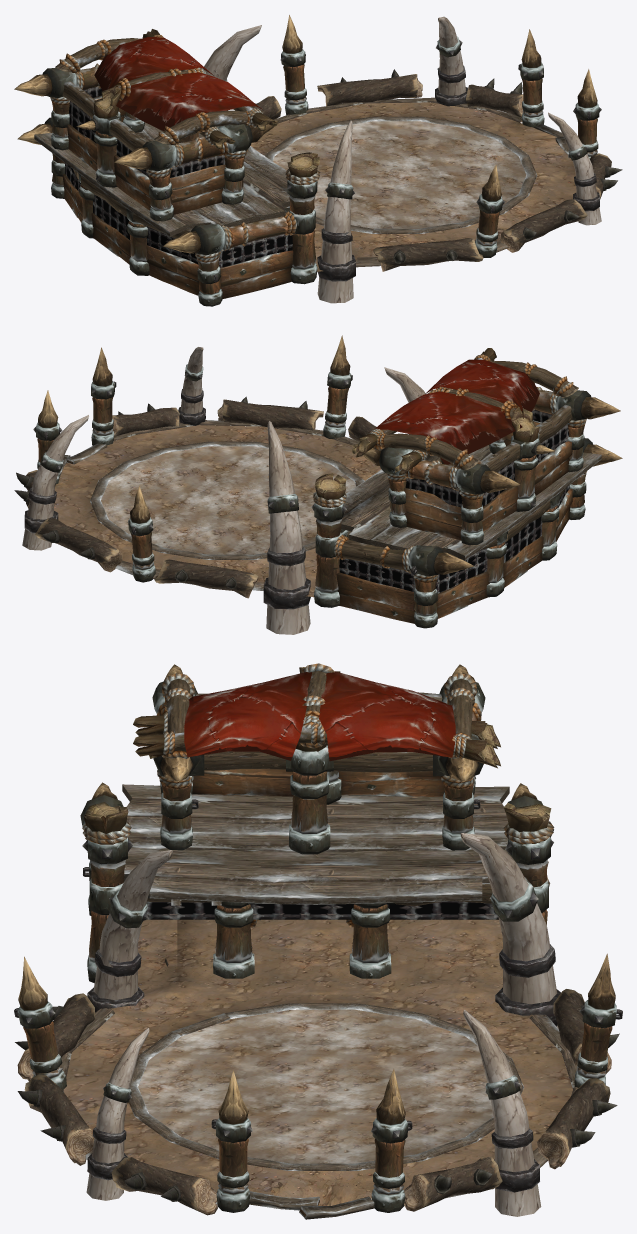
Rendered from Arena-Oro.glb.
The picture shows the model from 3 angles, top to bottom: view 1: azimuth 30°, elevation 25°; view 2: azimuth 150°, elevation 25°; view 3: azimuth 270°, elevation 25°; orthographic projection. The views are drawn at different scales.
Parts seen in each view (by area): view 1: 6or_garrison_petstables_v3_snow.001; view 2: 6or_garrison_petstables_v3_snow.001; view 3: 6or_garrison_petstables_v3_snow.001.
Part boxes in pixels (x1,y1,x2,y2): 6or_garrison_petstables_v3_snow.001: [14, 15, 622, 306]; 6or_garrison_petstables_v3_snow.001: [14, 335, 622, 634]; 6or_garrison_petstables_v3_snow.001: [14, 663, 622, 1219].
Bounding box in the file's own units: 41.3 × 15.57 × 29.68.
Materials: 21 (21 with a texture image).
